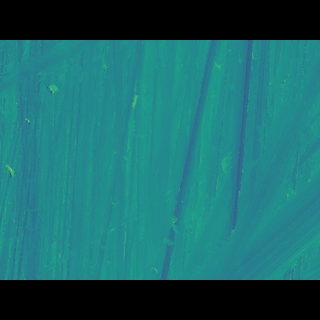Loch: (29, 132, 280, 249), (181, 73, 319, 250), (156, 70, 225, 250)
